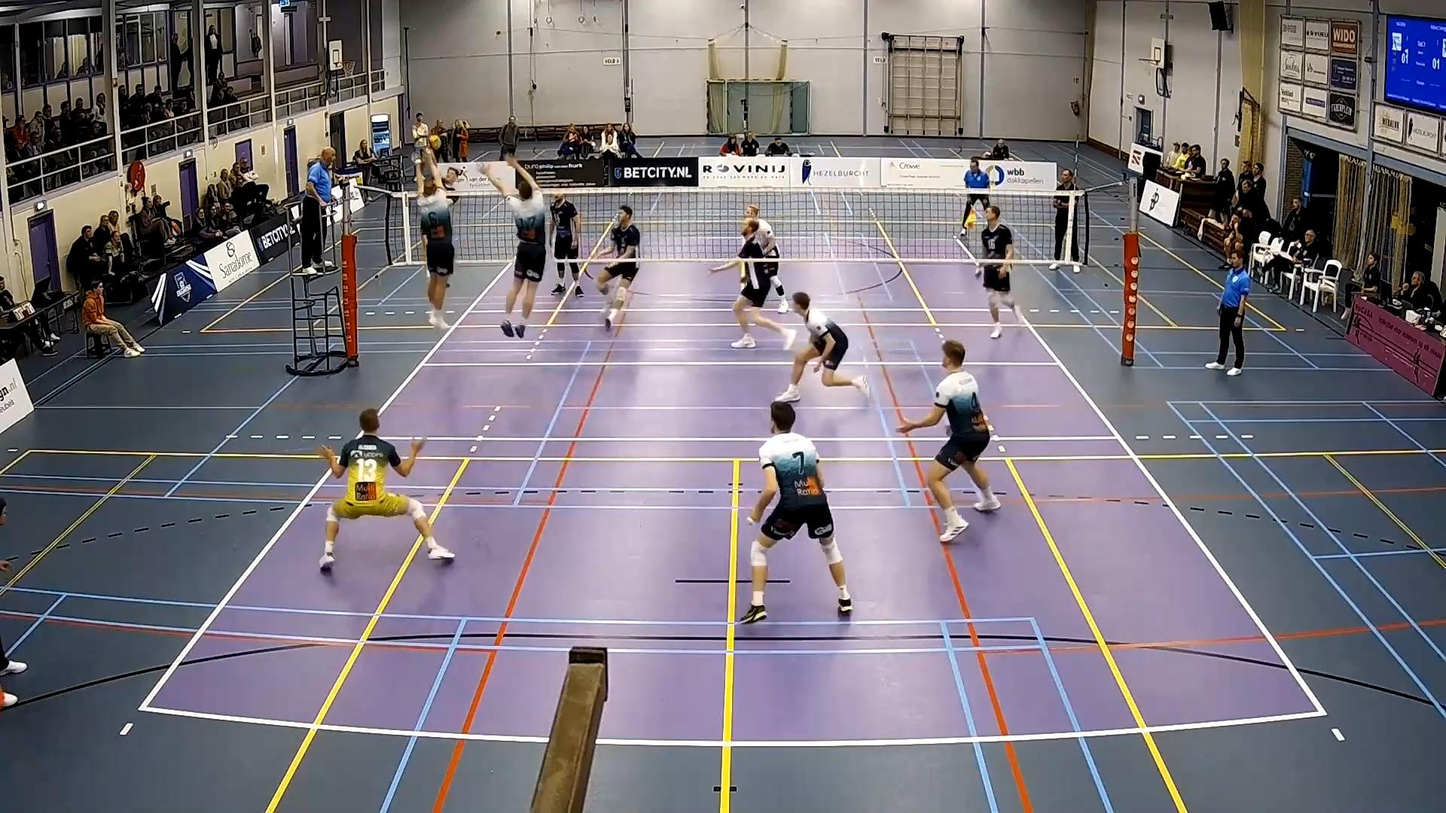attacco: (413, 151, 463, 208)
muro: (481, 153, 551, 346), (395, 156, 461, 334)
